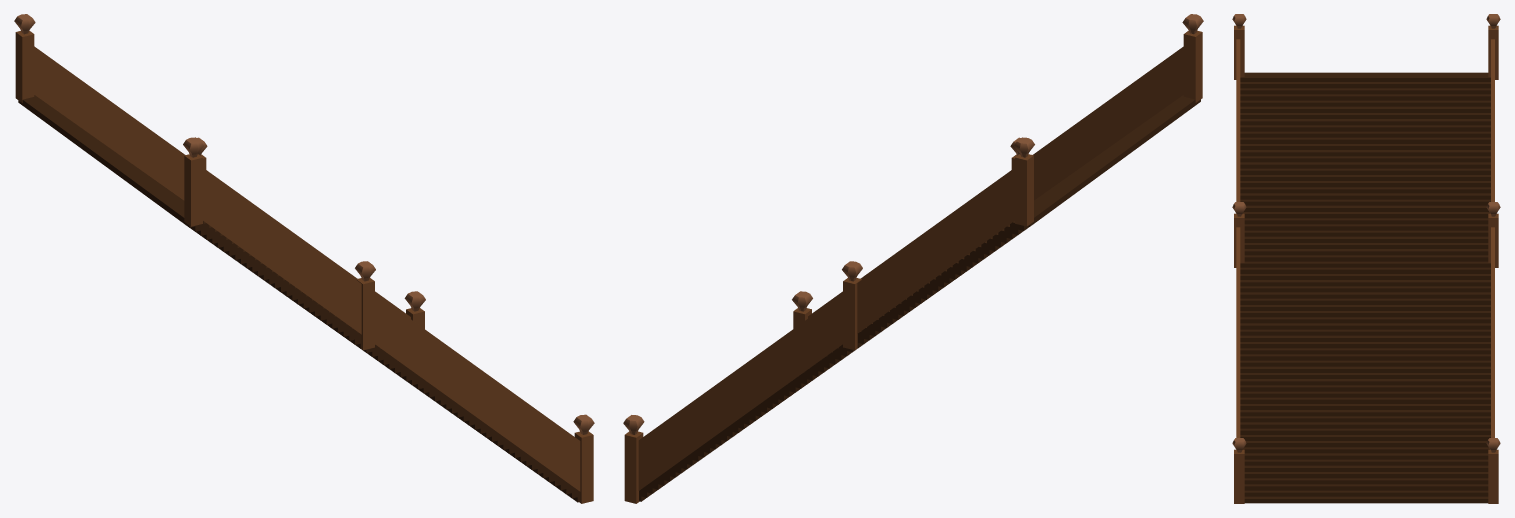
File: staircase 2_2.fbx
3 renders of one model, left to right at view 1: azimuth 30°, elevation 25°; view 2: azimuth 150°, elevation 25°; view 3: azimuth 270°, elevation 25°, orthographic. The views are drawn at different scales.
Parts seen in each view (by area): view 1: pCube163, pCube162, pCube87, pCube157, pCube156, pCube158, pCube160; view 2: pCube162, pCube163, pCube87, pCube156, pCube157, pCube159, pCube161; view 3: pCube87, pCube155, pCube163, pCube144, pCube143, pCube142, pCube141, pCube139, pCube138, pCube137, pCube136, pCube134 (+65 smaller).
Boxes of the visible parts, x1,y1,x2,y2 form: pCube163: (203,170,580,491); pCube162: (34,46,410,318); pCube87: (18,95,203,227); pCube157: (14,14,35,102); pCube156: (183,137,203,226); pCube158: (573,414,594,503); pCube160: (355,261,375,350); pCube162: (638,170,1014,490); pCube163: (808,46,1183,318); pCube87: (1027,95,1200,226); pCube156: (1182,14,1203,102); pCube157: (1014,137,1034,226); pCube159: (623,415,644,503); pCube161: (842,261,862,350); pCube87: (1240,72,1490,81); pCube155: (1244,496,1488,503); pCube163: (1236,39,1240,437); pCube144: (1240,428,1490,434); pCube143: (1240,422,1490,428); pCube142: (1240,416,1490,422); pCube141: (1240,410,1490,416); pCube139: (1240,397,1490,403); pCube138: (1240,391,1490,397); pCube137: (1240,385,1490,391); pCube136: (1240,379,1490,385); pCube134: (1240,366,1490,372).
Bounding box in the file's own units: 16.57 × 17.77 × 12.62.
